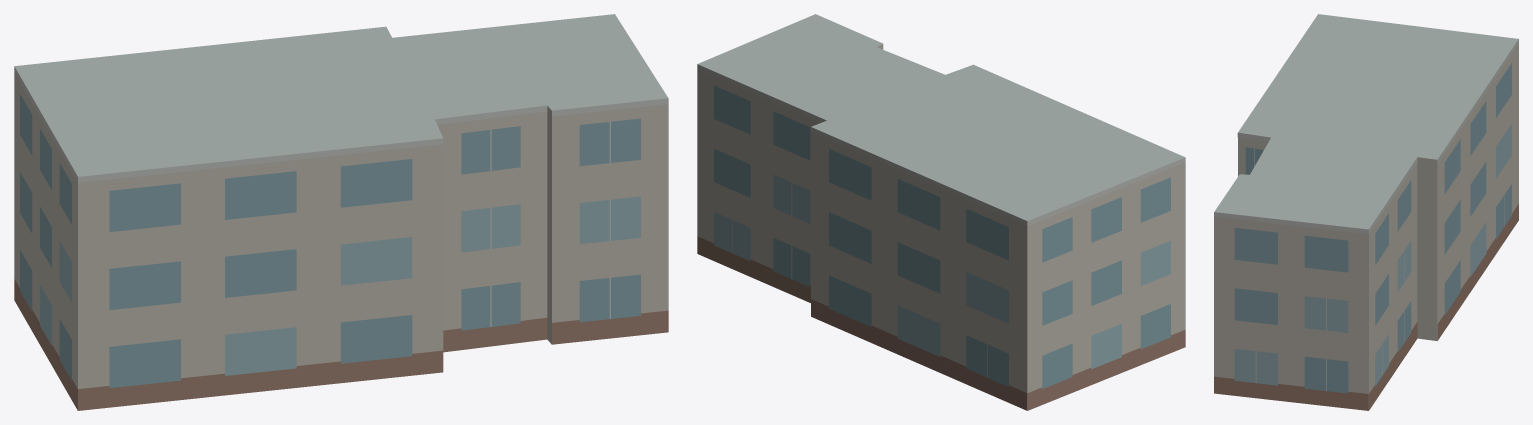
Rendered from survey-upis-32873608.glb.
The picture shows the model from 3 angles, left to right: view 1: azimuth 30°, elevation 25°; view 2: azimuth 150°, elevation 25°; view 3: azimuth 270°, elevation 25°; orthographic projection. The views are drawn at different scales.
Visible parts, largest first — view 1: survey-upis-32873608.tmp; view 2: survey-upis-32873608.tmp; view 3: survey-upis-32873608.tmp.
Boxes of the visible parts, <box> form: survey-upis-32873608.tmp: <box>14,14,668,410</box>; survey-upis-32873608.tmp: <box>697,14,1185,410</box>; survey-upis-32873608.tmp: <box>1214,14,1518,410</box>.
Size of the model in its own units: 24.46 by 9.6 by 14.63.
